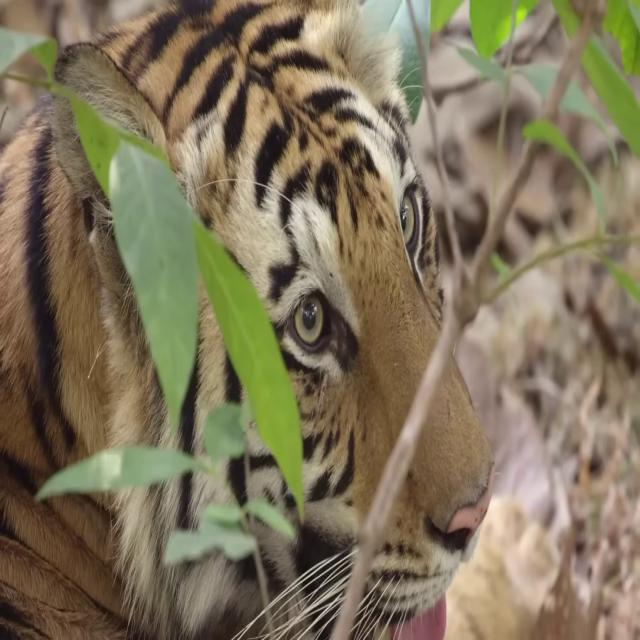tiger: (0, 0, 496, 640)
